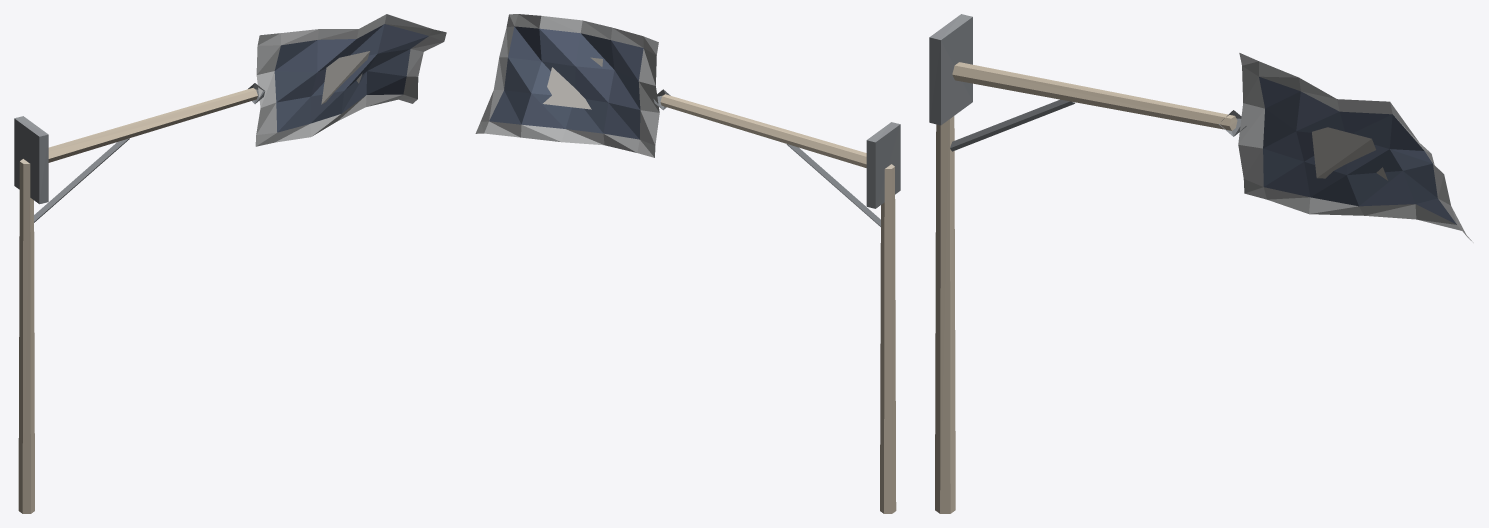
File: flag.notched.dianqi__pole.horizontal.xiecheng__armFly.glb
3 renders of one model, left to right at view 1: azimuth 30°, elevation 25°; view 2: azimuth 150°, elevation 25°; view 3: azimuth 330°, elevation 25°, orthographic. The views are drawn at different scales.
Parts seen in each view (by area): view 1: flag.notched.dianqi; view 2: flag.notched.dianqi; view 3: flag.notched.dianqi.
Part boxes in pixels (x1,y1,x2,y2): flag.notched.dianqi: [14, 14, 446, 513]; flag.notched.dianqi: [475, 14, 900, 513]; flag.notched.dianqi: [929, 14, 1473, 513].
Size of the model in its own units: 3.55 by 3.47 by 0.5532.
